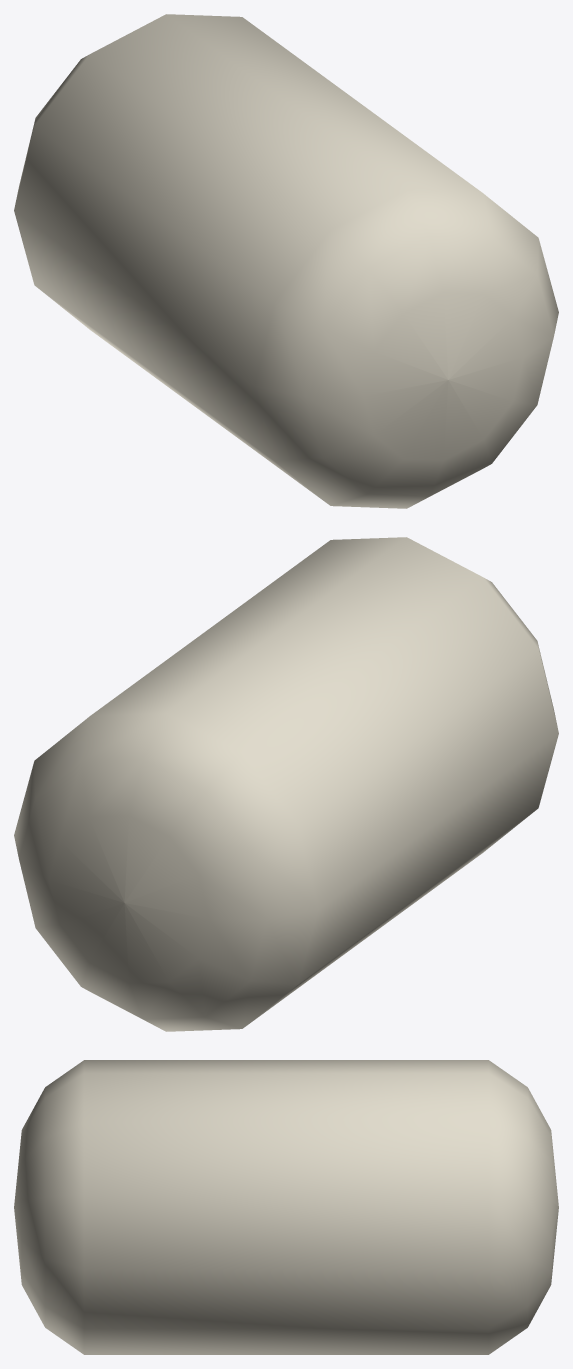
The model's file is jcharge_shell.obj.
3 views of the same model, one above another, from view 1: azimuth 30°, elevation 25°; view 2: azimuth 150°, elevation 25°; view 3: azimuth 270°, elevation 25° (orthographic). The views are drawn at different scales.
Visible parts, largest first — view 1: jcharge_shell; view 2: jcharge_shell; view 3: jcharge_shell.
Part boxes in pixels (x1,y1,x2,y2): jcharge_shell: (14,14,558,508); jcharge_shell: (14,537,558,1031); jcharge_shell: (14,1060,558,1354).
Size of the model in its own units: 0.76 by 0.76 by 1.4.
